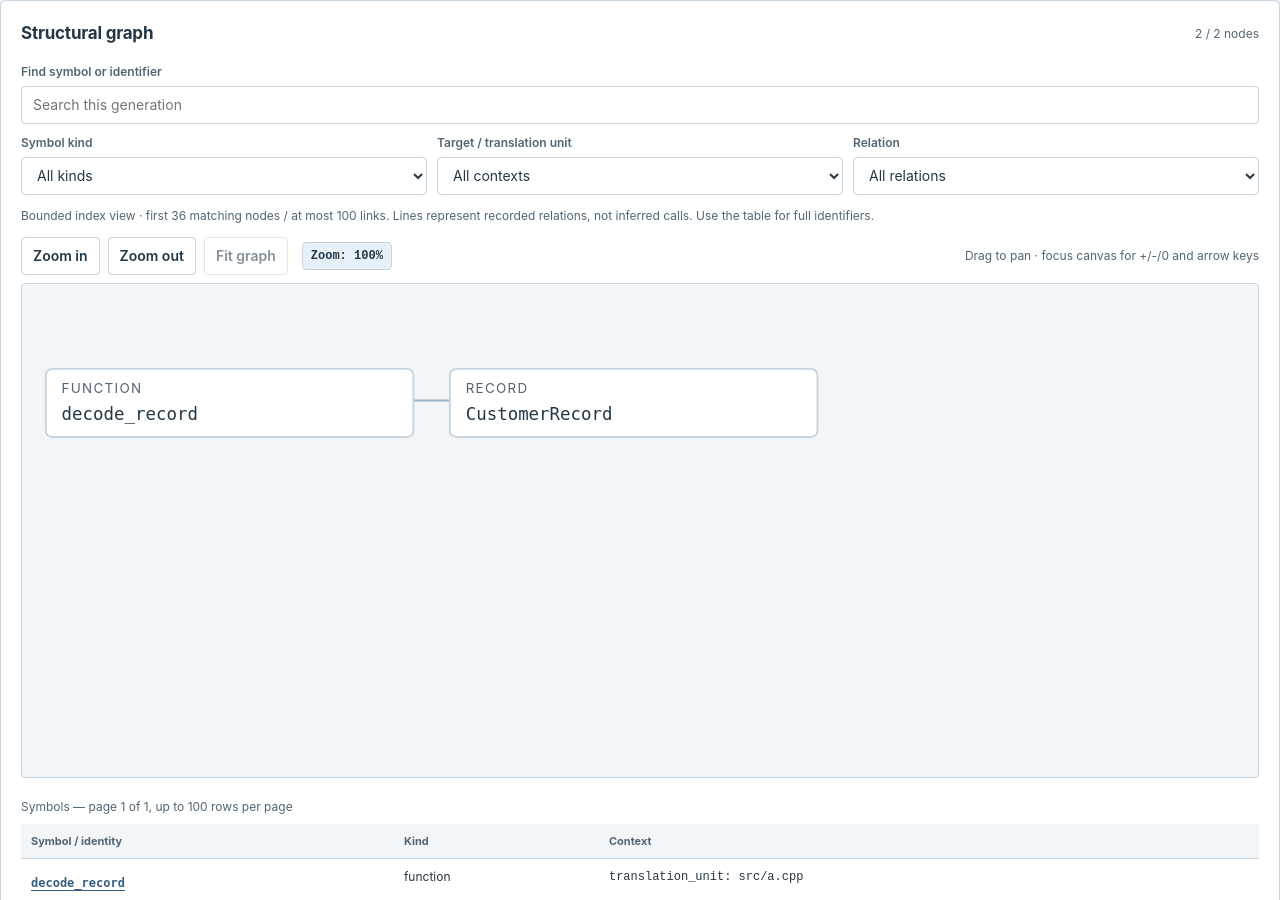
Test case: GraphExplorer zoom and pan viewport › supports keyboard zoom and pan on focused SVG canvas without hijacking node activation or search input
Step 1. Press + in the icon named "Bounded structural graph", box [22,284,1258,776]
Step 2. Press + in the icon named "Bounded structural graph", box [22,284,1258,776]
Expected: the text named "Graph zoom scale" reads "Zoom: 100%", [302,242,392,270]
Step 3. Press + in the icon named "Bounded structural graph", box [22,284,1258,776]
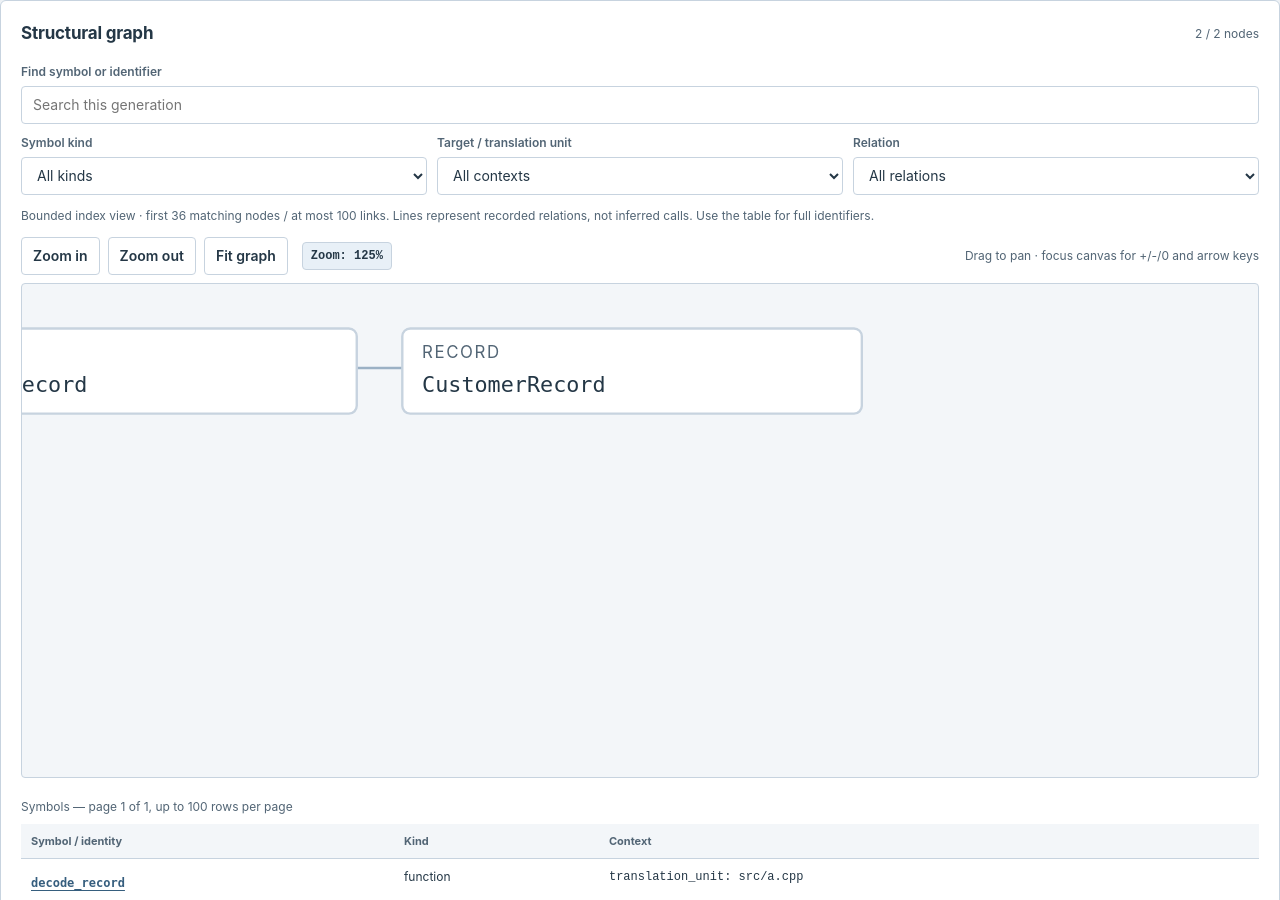
Result: the text named "Graph zoom scale" reads "Zoom: 125%" at [302,242,392,270]
Step 4. Press ArrowRight in the icon named "Bounded structural graph", box [22,284,1258,776]
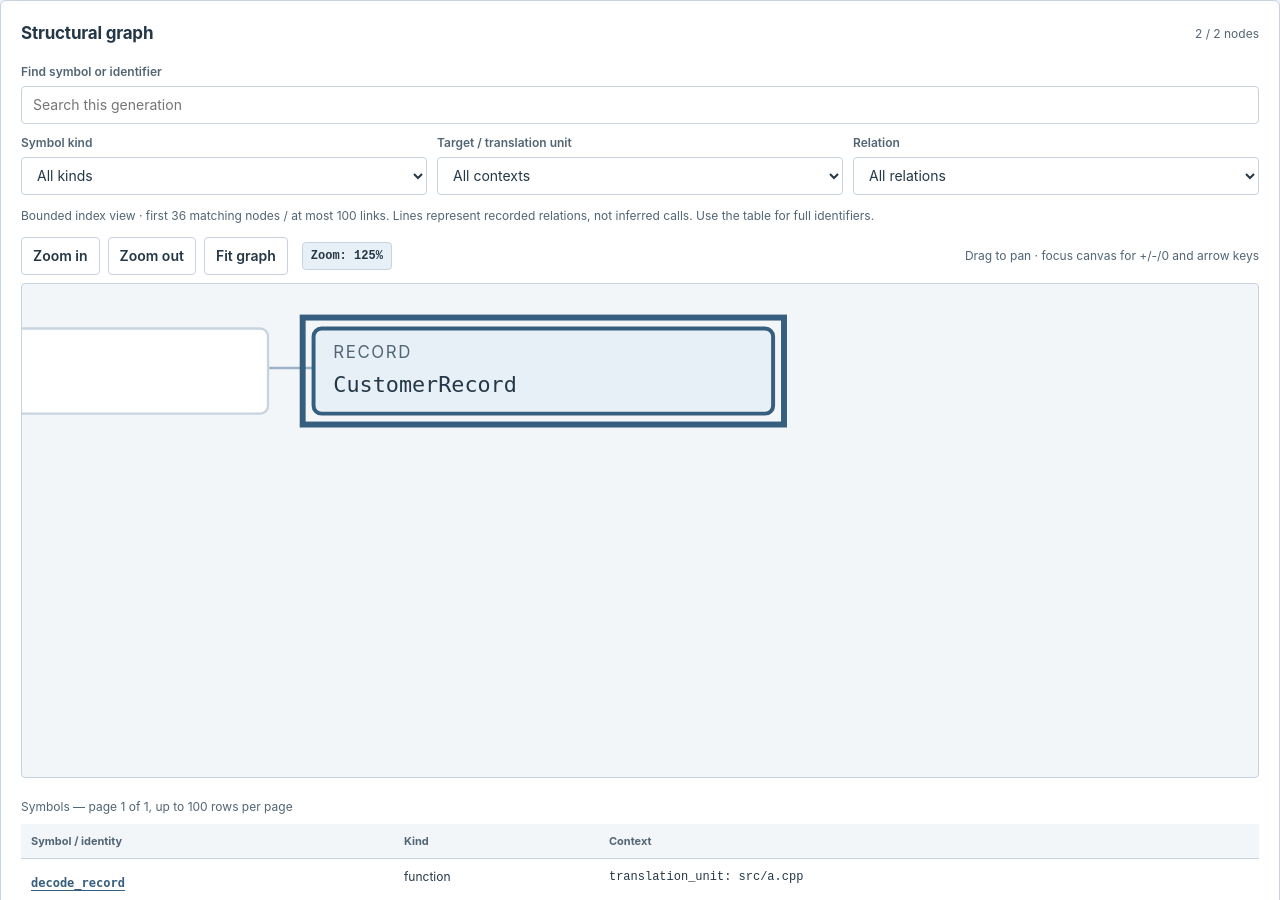
Step 5. Press Enter in the button "Inspect record CustomerRecord", box [333,342,517,396]
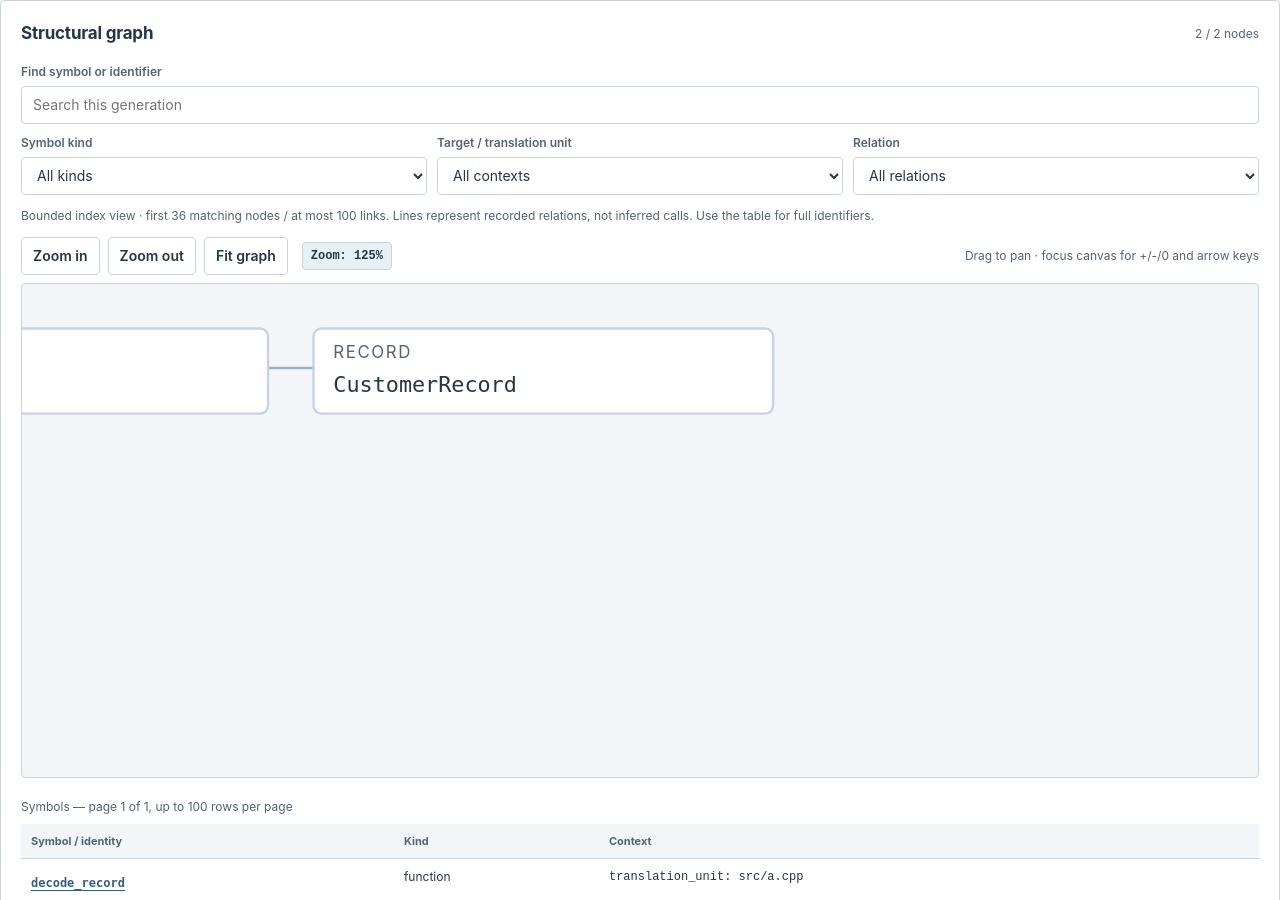
Result: the text named "Graph zoom scale" reads "Zoom: 125%" at [302,242,392,270]
Step 6. Press 0 in the icon named "Bounded structural graph", box [22,284,1258,776]
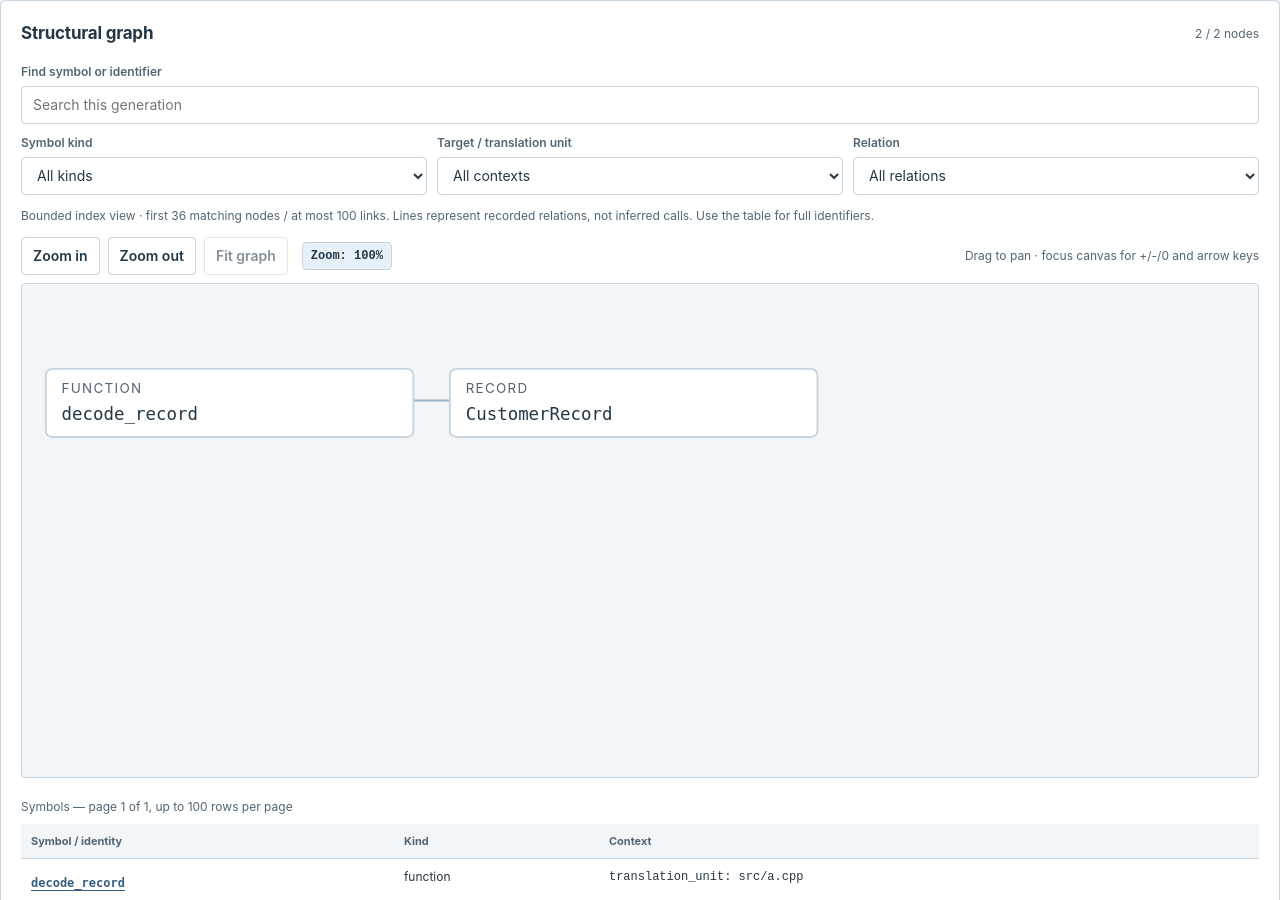
# Typing in search input works normally and resets view on filter change
Step 7. Press + in the icon named "Bounded structural graph", box [22,284,1258,776]
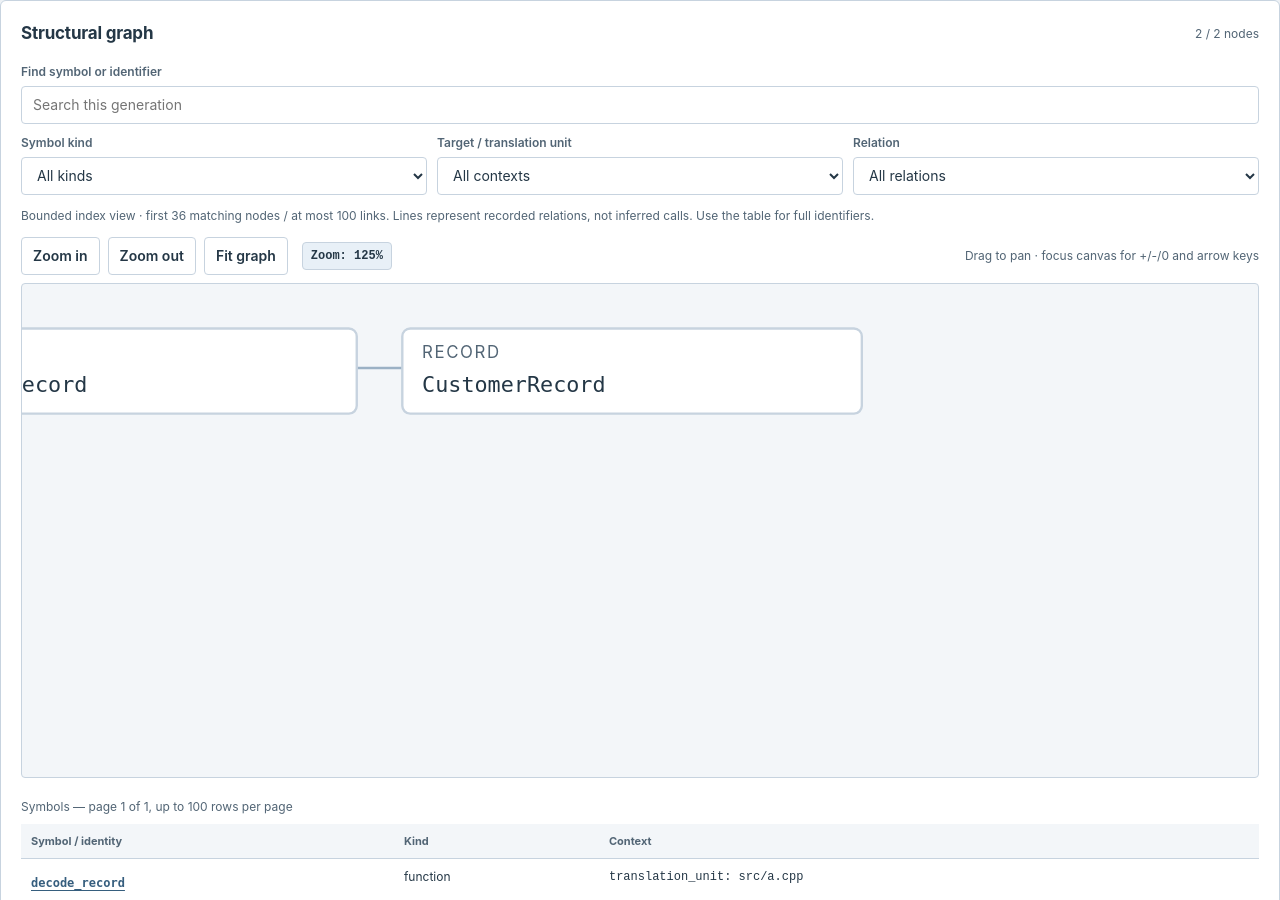
Result: the text named "Graph zoom scale" reads "Zoom: 125%" at [302,242,392,270]
Step 8. Type "decode" into the search field labelled "Find symbol or identifier" → (640, 104), box [21,86,1259,124]
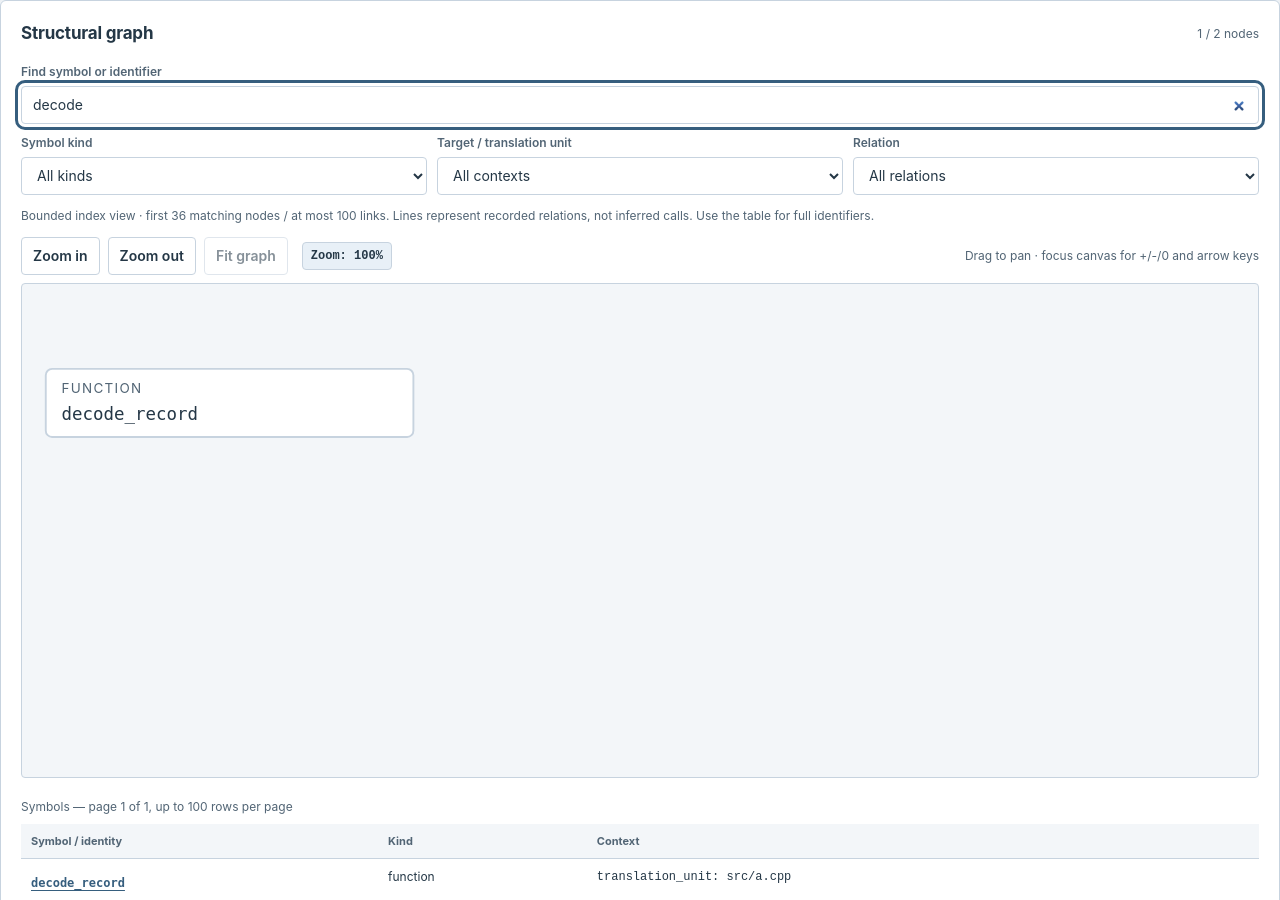
Result: the text named "Graph zoom scale" reads "Zoom: 100%" at [302,242,392,270]
